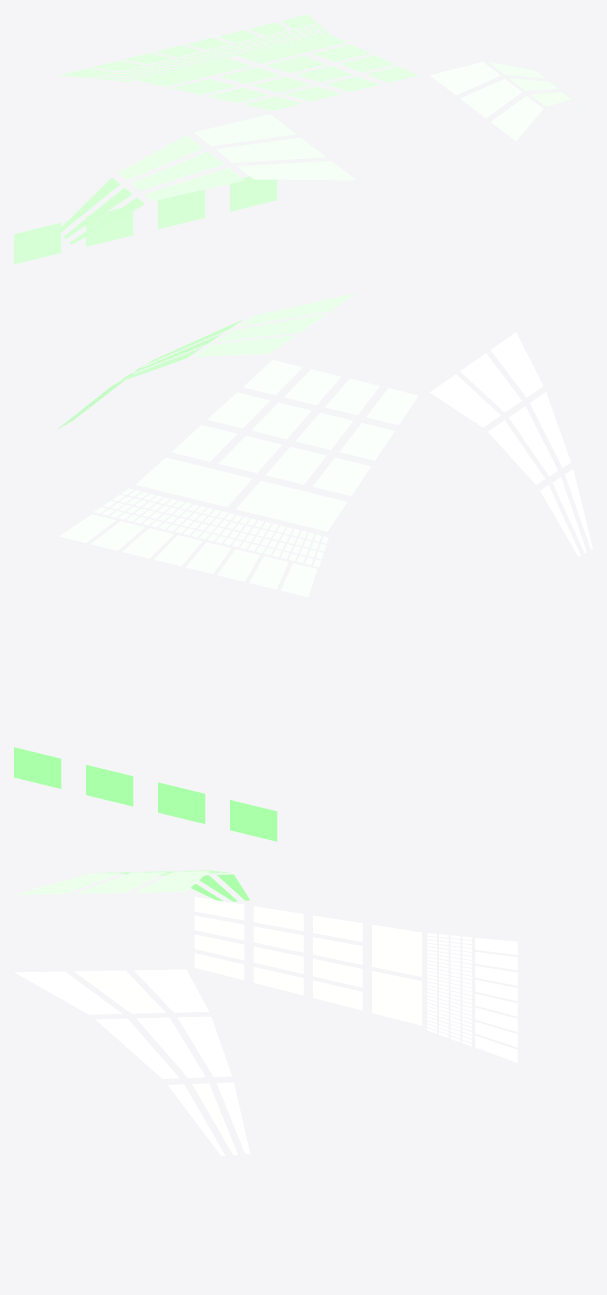
Rendered from statek_materials_ekrany_przod.glb.
The picture shows the model from 3 angles, top to bottom: view 1: azimuth 30°, elevation 25°; view 2: azimuth 150°, elevation 25°; view 3: azimuth 270°, elevation 25°; orthographic projection.
Visible parts, largest first — view 1: ekrany_przod; view 2: ekrany_przod; view 3: ekrany_przod.
Boxes of the visible parts, bbox=[...] form: ekrany_przod: bbox=[14, 14, 590, 264]; ekrany_przod: bbox=[14, 293, 592, 841]; ekrany_przod: bbox=[14, 870, 517, 1156].
Size of the model in its own units: 3.4 by 1.79 by 3.28.
Materials: 1 (1 with a texture image).
